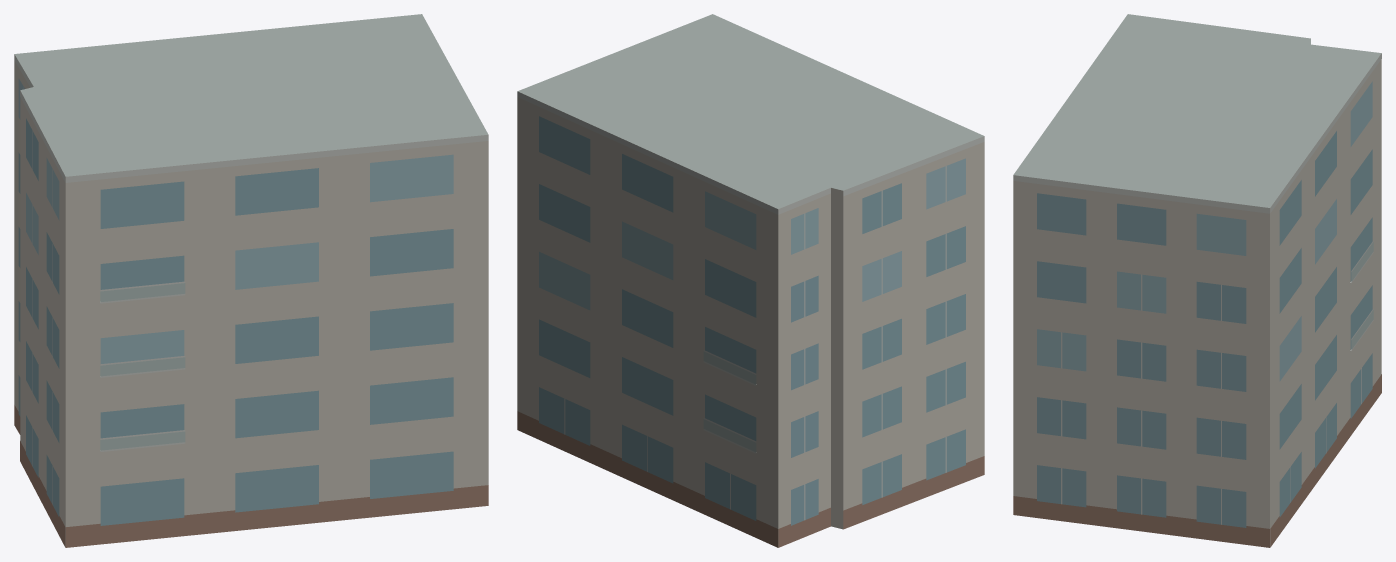
The model's file is survey-upis-32878862.glb.
3 renders of one model, left to right at view 1: azimuth 30°, elevation 25°; view 2: azimuth 150°, elevation 25°; view 3: azimuth 270°, elevation 25°, orthographic. The views are drawn at different scales.
Visible parts, largest first — view 1: survey-upis-32878862.tmp; view 2: survey-upis-32878862.tmp; view 3: survey-upis-32878862.tmp.
Part boxes in pixels (x1,y1,x2,y2): survey-upis-32878862.tmp: [14, 14, 488, 547]; survey-upis-32878862.tmp: [517, 14, 984, 547]; survey-upis-32878862.tmp: [1013, 14, 1381, 547].
Bounding box in the file's own units: 17.89 × 14.6 × 14.36.
